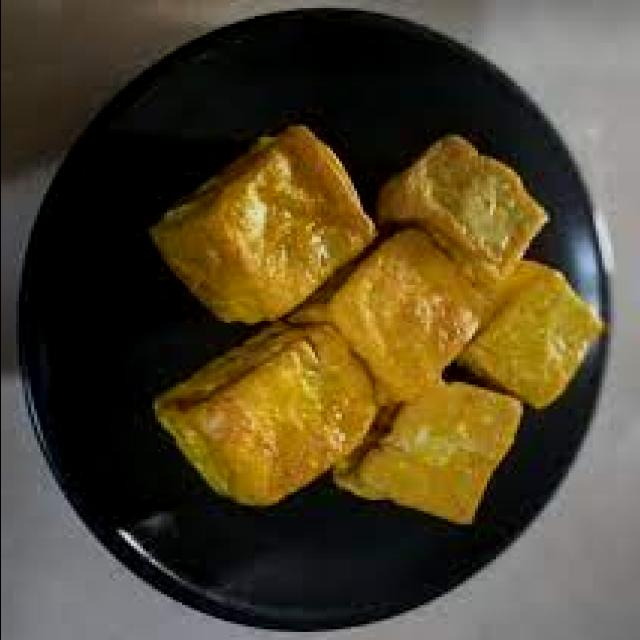tahu goreng: (142, 121, 374, 325), (148, 307, 374, 508), (305, 202, 495, 403), (332, 385, 522, 524), (374, 132, 543, 277), (441, 261, 601, 409)
